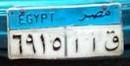1: (40, 33, 46, 56)
5: (50, 35, 63, 54)
6: (11, 33, 23, 57)
9: (25, 33, 37, 56)
alif: (72, 31, 81, 56), (90, 31, 97, 54)
qaaf: (101, 28, 121, 54)
